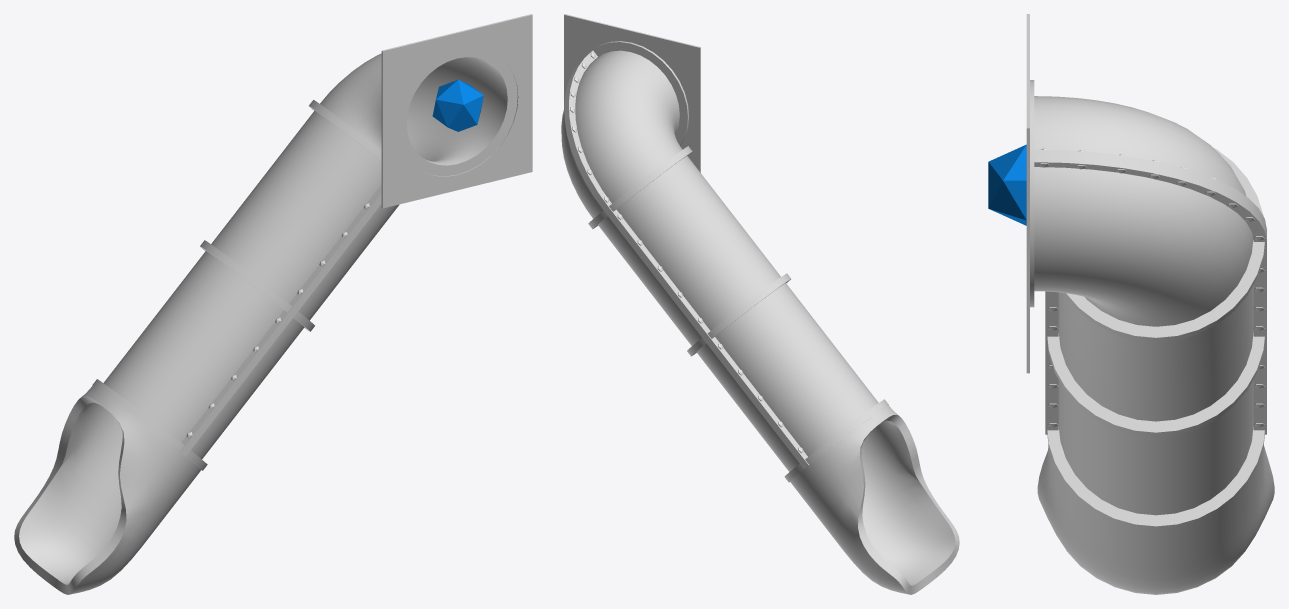
File: Side winder slide.glb
The picture shows the model from 3 angles, left to right: view 1: azimuth 30°, elevation 25°; view 2: azimuth 150°, elevation 25°; view 3: azimuth 270°, elevation 25°; orthographic projection. The views are drawn at different scales.
Parts seen in each view (by area): view 1: Side winder slide, Joint.007; view 2: Side winder slide; view 3: Side winder slide, Joint.007.
Boxes of the visible parts, box(x1,y1,x2,y2) form: Side winder slide: box(14, 14, 532, 594); Joint.007: box(432, 79, 483, 131); Side winder slide: box(561, 14, 959, 594); Side winder slide: box(1026, 14, 1274, 594); Joint.007: box(988, 144, 1026, 225).
Size of the model in its own units: 2.72 by 2.89 by 0.9673.
